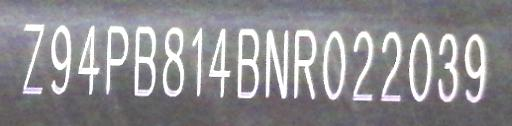letter: (290, 26, 320, 100), (406, 28, 434, 106), (262, 25, 290, 101), (378, 29, 406, 105), (102, 22, 130, 96), (76, 23, 104, 97), (462, 32, 490, 106), (206, 25, 232, 103), (20, 21, 46, 97), (160, 24, 186, 100), (234, 26, 260, 102), (321, 27, 347, 103), (132, 24, 158, 98), (436, 30, 462, 104), (350, 26, 374, 104), (50, 22, 72, 96), (188, 26, 204, 100)
